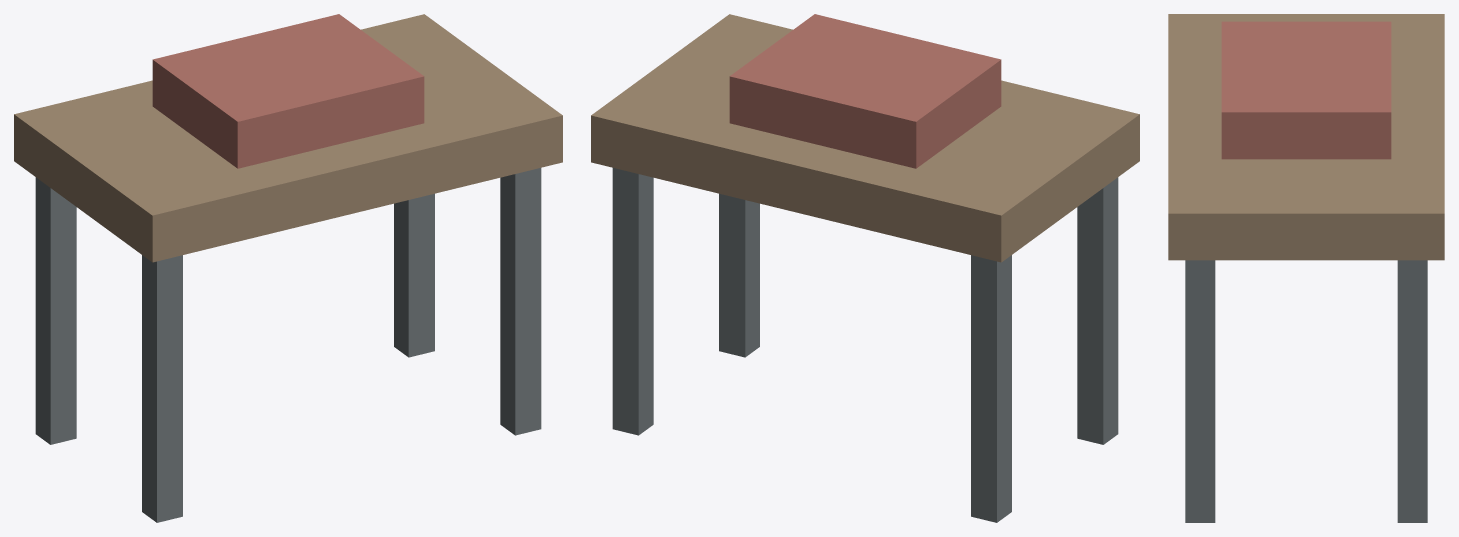
The model's file is iz2_water_distiller.glb.
3 renders of one model, left to right at view 1: azimuth 30°, elevation 25°; view 2: azimuth 150°, elevation 25°; view 3: azimuth 270°, elevation 25°, orthographic.
Parts seen in each view (by area): view 1: body; view 2: body; view 3: body.
Boxes of the visible parts, x1,y1,x2,y2 form: body: (14, 14, 562, 522); body: (591, 14, 1139, 522); body: (1168, 14, 1444, 522).
Size of the model in its own units: 1.09 by 0.9254 by 0.6386.
